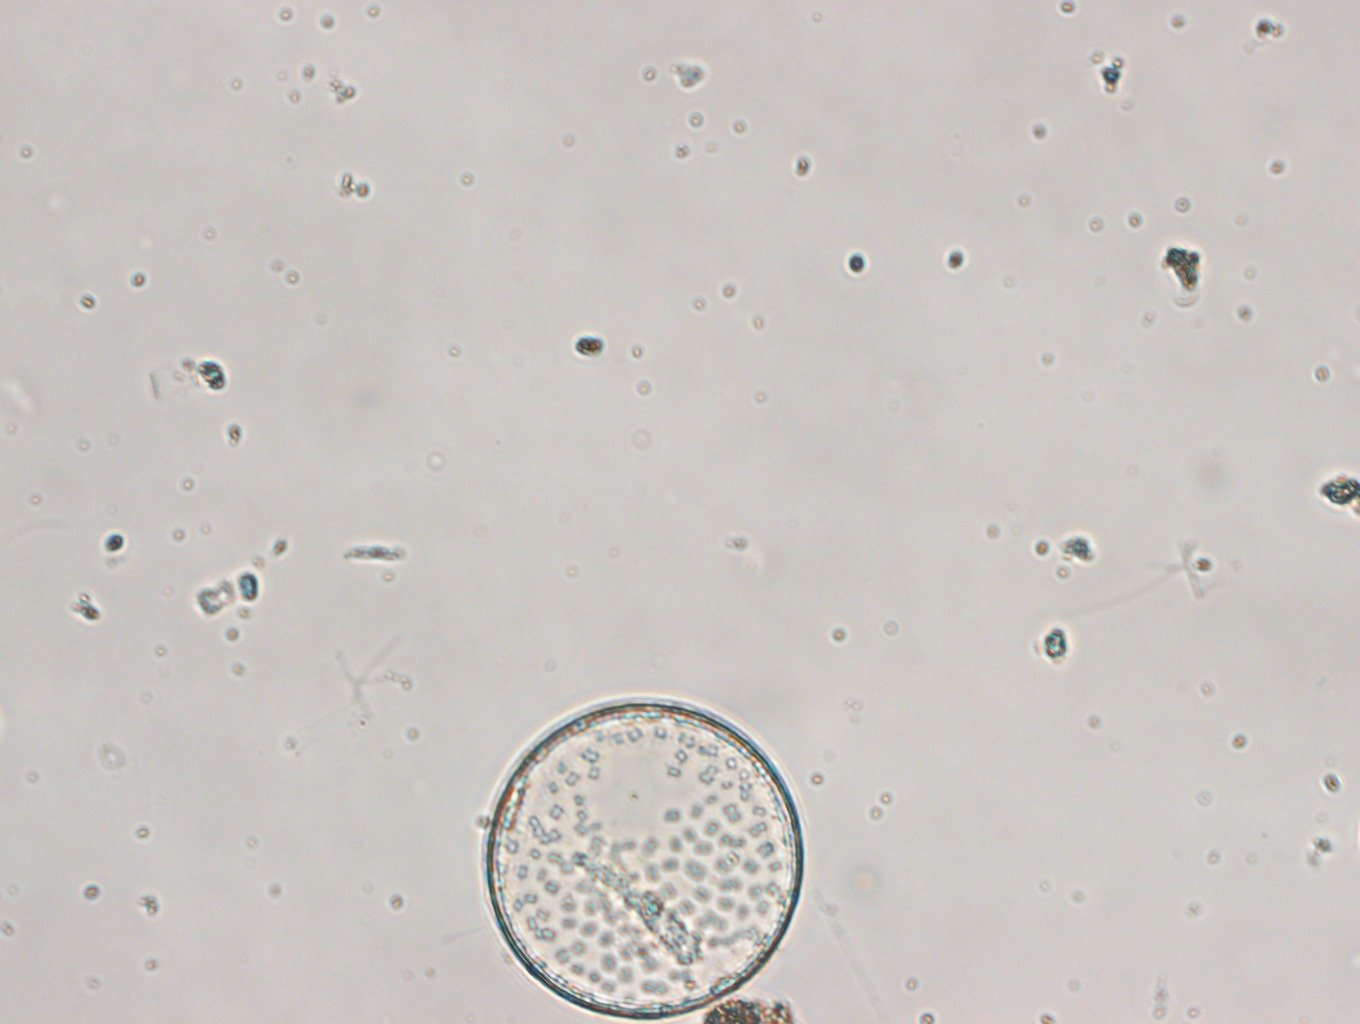coscinodiscus: (485, 699, 806, 1022)
